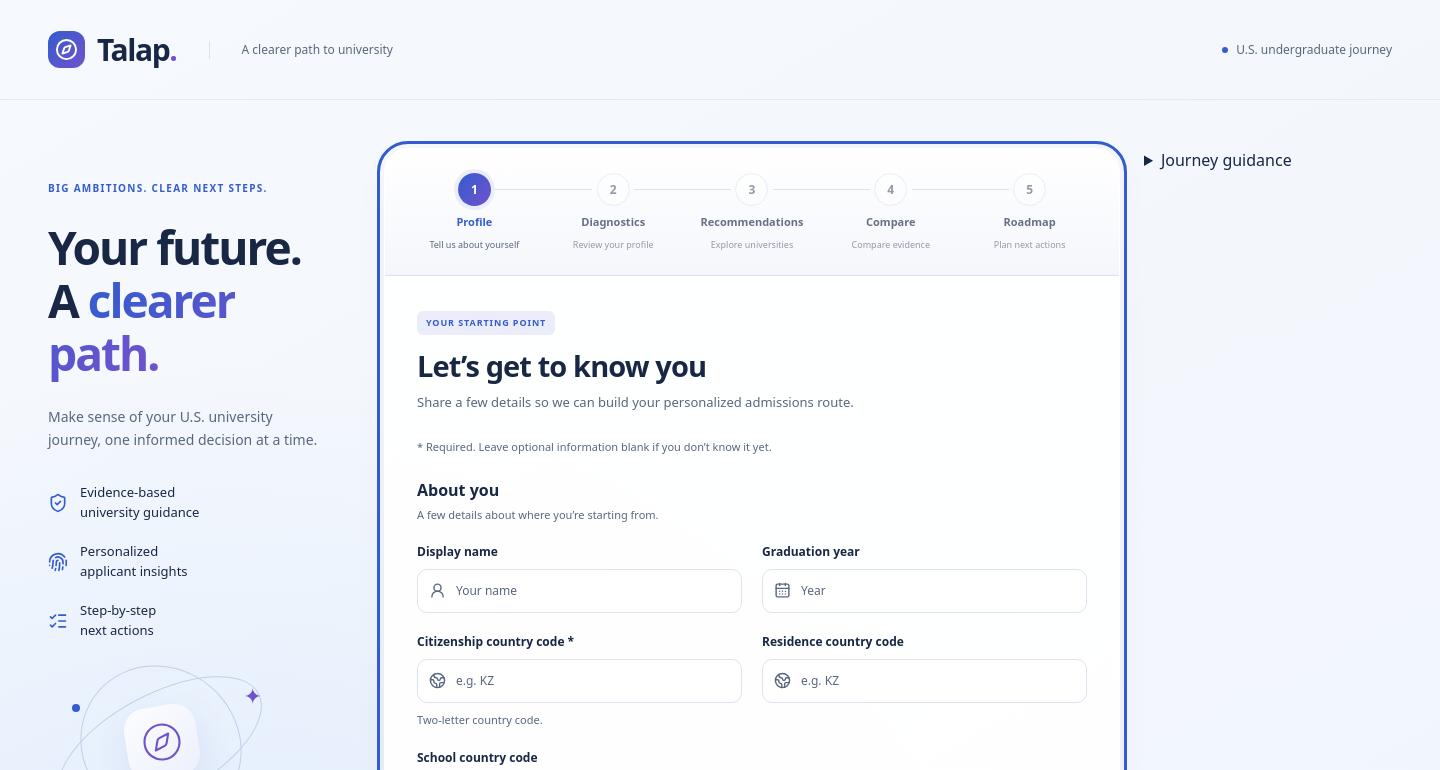
Scenario: responsive Talap journey › renders the compact shell, usable five-step navigation, profile controls, and collapsible guidance
Expected: the number of links "1 Profile Tell us about yourself" is 5, [429,173,519,250]; [573,173,654,250]; [701,173,803,250]; [852,173,930,250]; [994,173,1066,250]
Expected: the field labelled "Citizenship country code *" is enabled, [417,659,742,703]
Click the heading "Journey guidance" at (1226, 160), box [1161,149,1292,171]
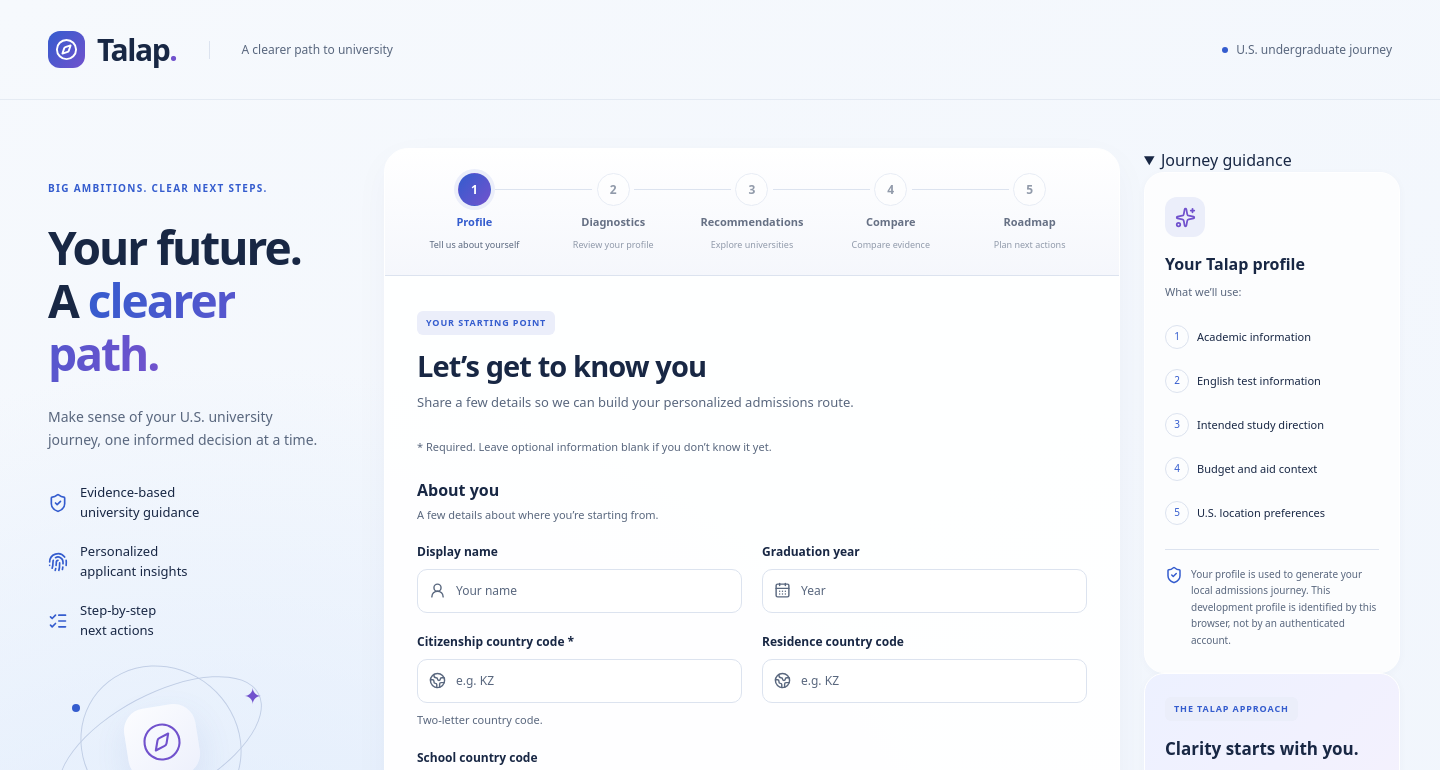
Now the heading "Your Talap profile" is shown, box [1165,253,1305,275]
